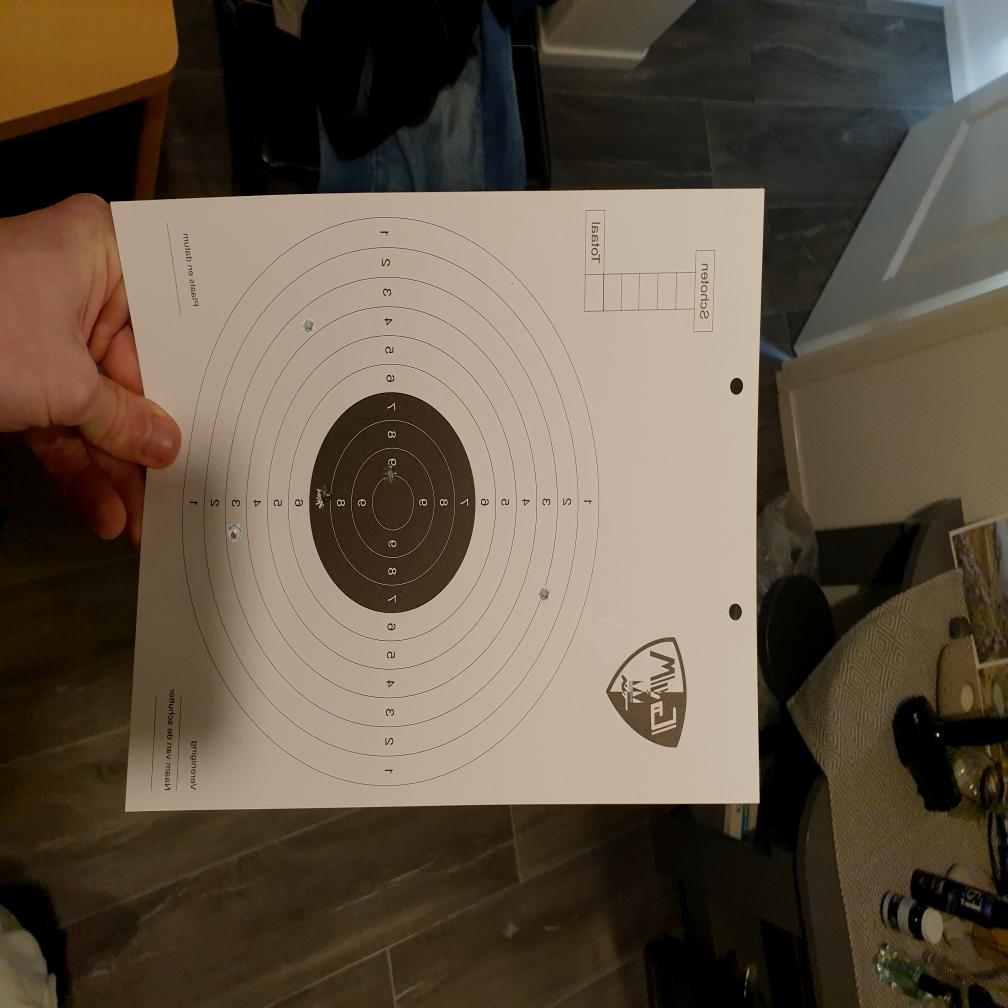10: (384, 464, 398, 484)
3: (227, 522, 242, 543), (302, 316, 314, 336), (538, 586, 550, 602)
8: (316, 485, 332, 507)
Target: (182, 212, 601, 785)
black_contour: (310, 392, 476, 612)
